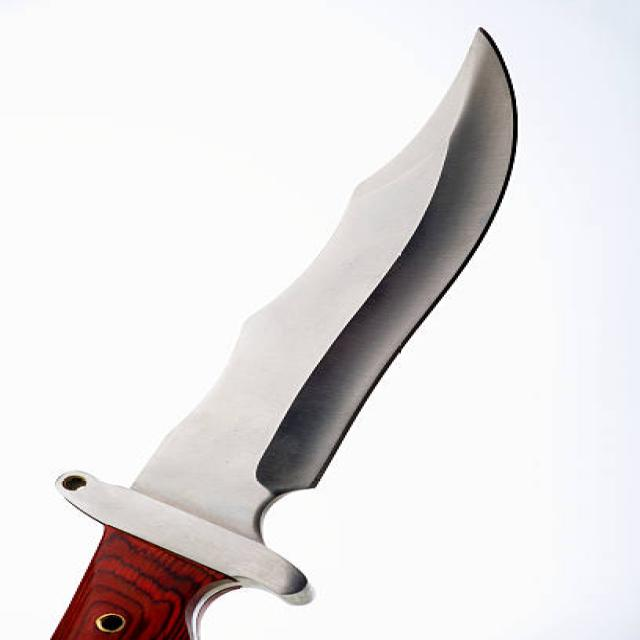knife: (1, 1, 556, 640)
